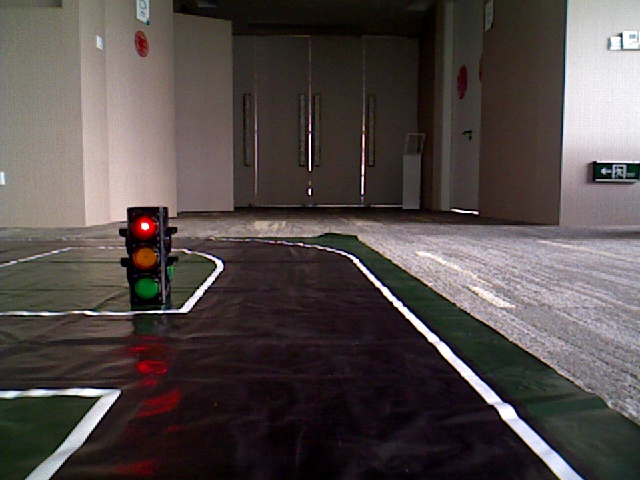red: (124, 210, 162, 302)
